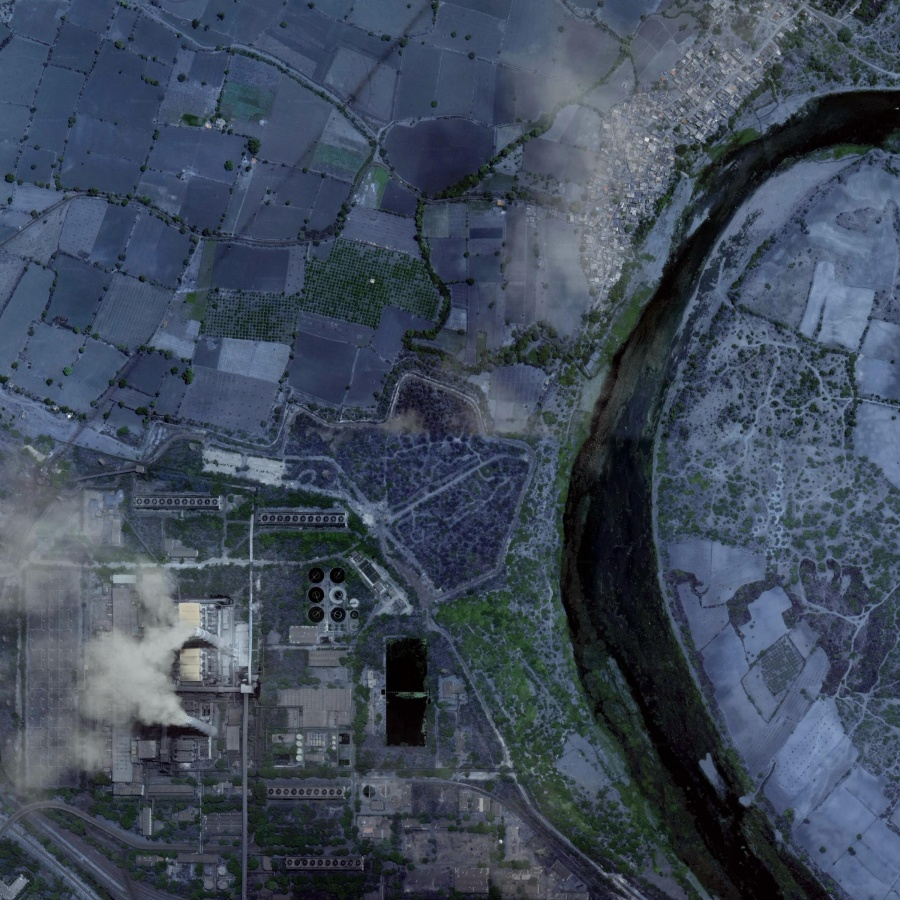PowerPlant: (28, 487, 300, 807)
